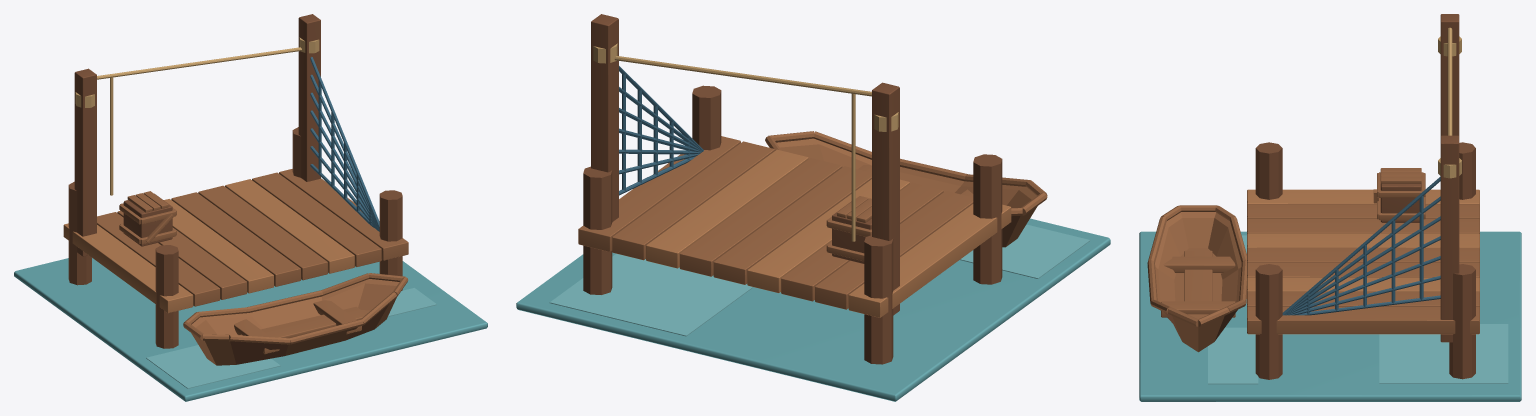
File: fishery.glb
The picture shows the model from 3 angles, left to right: view 1: azimuth 30°, elevation 25°; view 2: azimuth 150°, elevation 25°; view 3: azimuth 270°, elevation 25°; orthographic projection. The views are drawn at different scales.
Visible parts, largest first — view 1: fishery; view 2: fishery; view 3: fishery.
Boxes of the visible parts, left/top/right/bottom form: fishery: left=14, top=14, right=487, bottom=401; fishery: left=516, top=14, right=1110, bottom=401; fishery: left=1139, top=14, right=1521, bottom=401.
Size of the model in its own units: 2.48 by 1.7 by 2.43.
